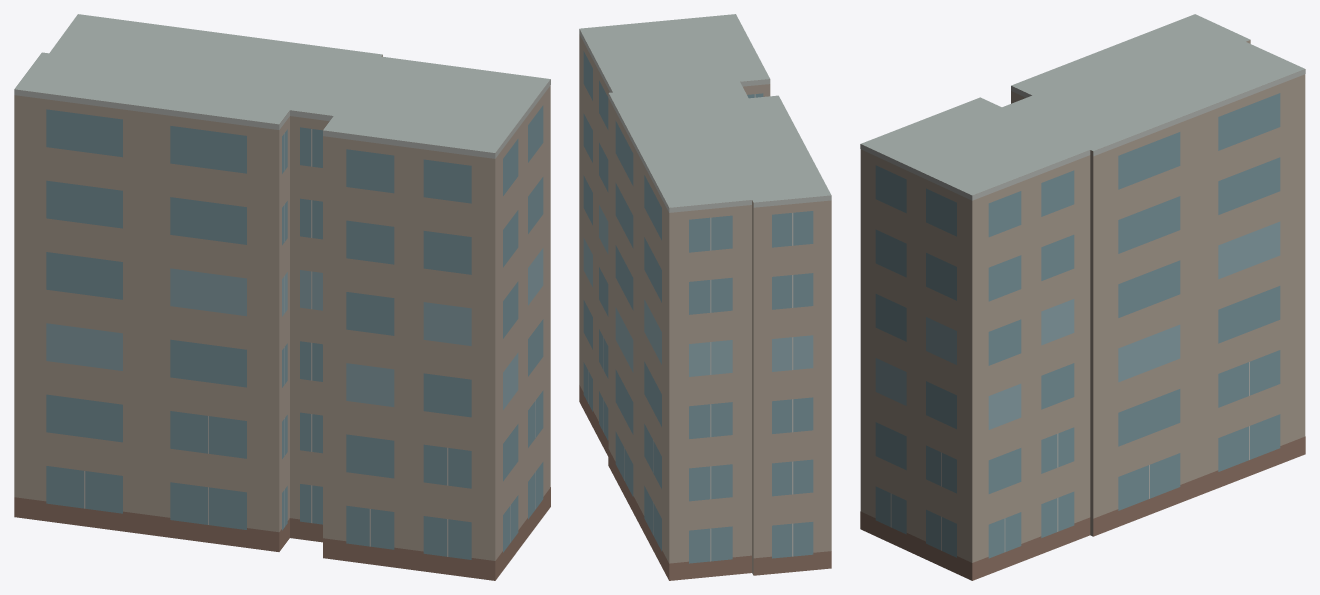
File: survey-upis-32529318.glb
3 views of the same model, side by side, from view 1: azimuth 30°, elevation 25°; view 2: azimuth 150°, elevation 25°; view 3: azimuth 270°, elevation 25° (orthographic). The views are drawn at different scales.
Visible parts, largest first — view 1: survey-upis-32529318.tmp; view 2: survey-upis-32529318.tmp; view 3: survey-upis-32529318.tmp.
Part boxes in pixels (box(x1,y1,x2,y2)): survey-upis-32529318.tmp: box(14, 14, 550, 580); survey-upis-32529318.tmp: box(579, 14, 831, 580); survey-upis-32529318.tmp: box(860, 14, 1305, 580).
Size of the model in its own units: 18.19 by 18 by 18.84.
